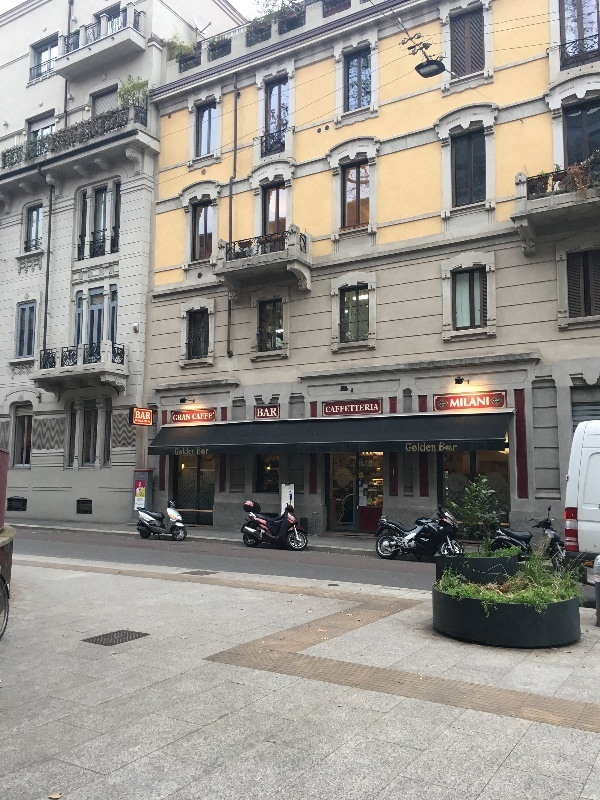text: (465, 396, 480, 408), (338, 472, 352, 484), (451, 396, 464, 408), (337, 403, 352, 413), (353, 403, 368, 413), (417, 443, 432, 452), (257, 408, 272, 417), (193, 412, 208, 420), (177, 447, 192, 455), (326, 403, 336, 413), (369, 403, 379, 413), (177, 414, 191, 421), (481, 396, 489, 408), (406, 443, 416, 452), (449, 443, 458, 452), (135, 411, 144, 420), (198, 447, 208, 455), (440, 443, 448, 452), (136, 498, 144, 505), (145, 411, 151, 420), (209, 412, 215, 420), (135, 419, 144, 424), (433, 443, 437, 452), (273, 408, 277, 417), (145, 419, 151, 424), (440, 403, 448, 405), (193, 447, 195, 455), (140, 492, 144, 496), (174, 414, 176, 421), (493, 399, 496, 402), (497, 399, 500, 402), (175, 447, 176, 455)
